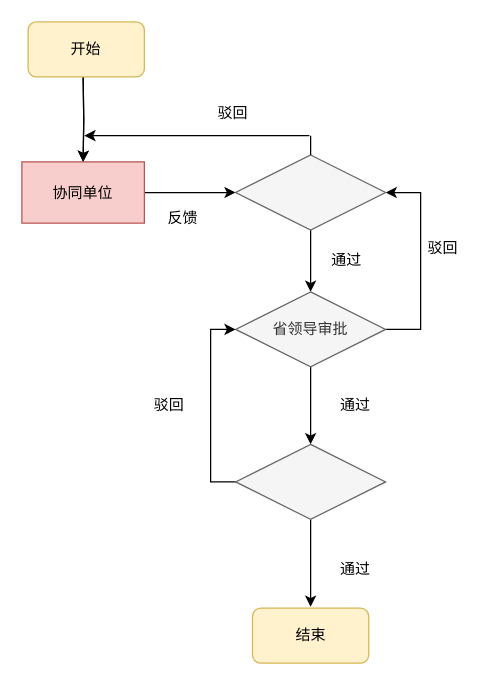
Image size: 490x685. Some labels were removed from this diagram. Here are the shapes that lost their labels. From the top down, the centre of each, then its label:
At [310,192]: "牵头单位审批".
At [310,481]: "创建单位审批".
